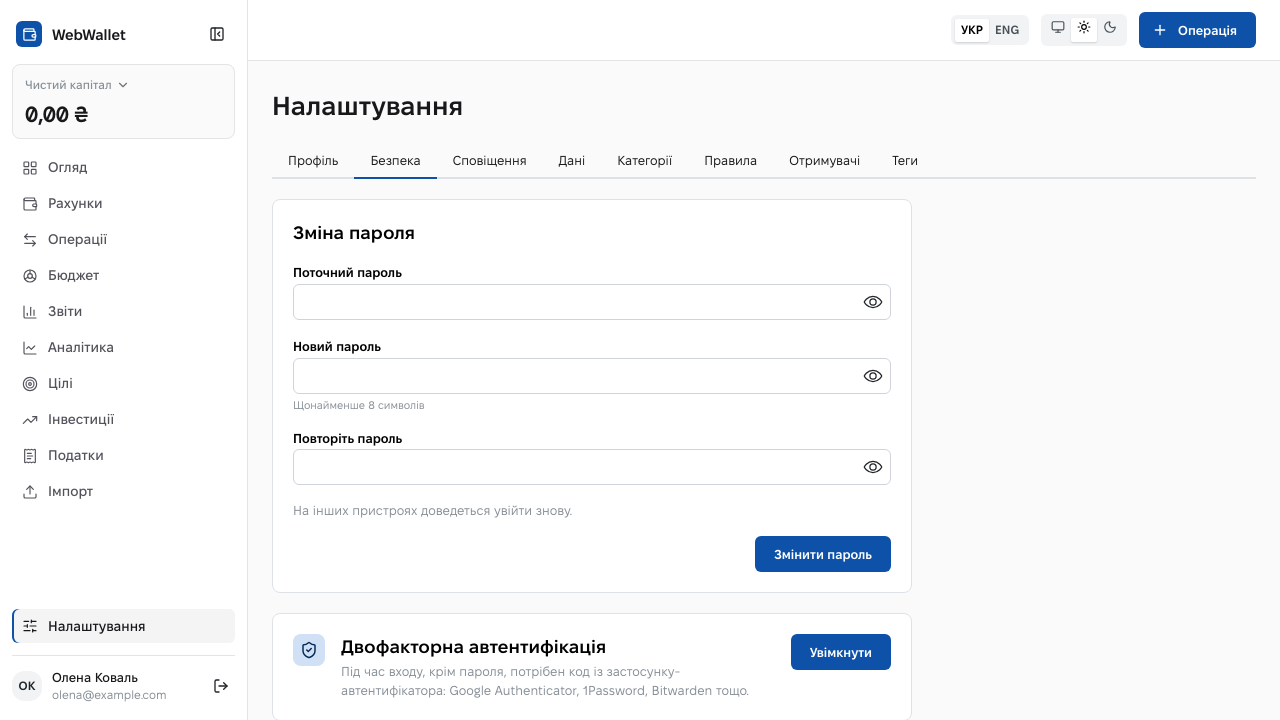
Test: shows too many attempts above the buttons
The image size is (1280, 720).
Click the button "Увімкнути" at (841, 652), box [791, 634, 891, 670]
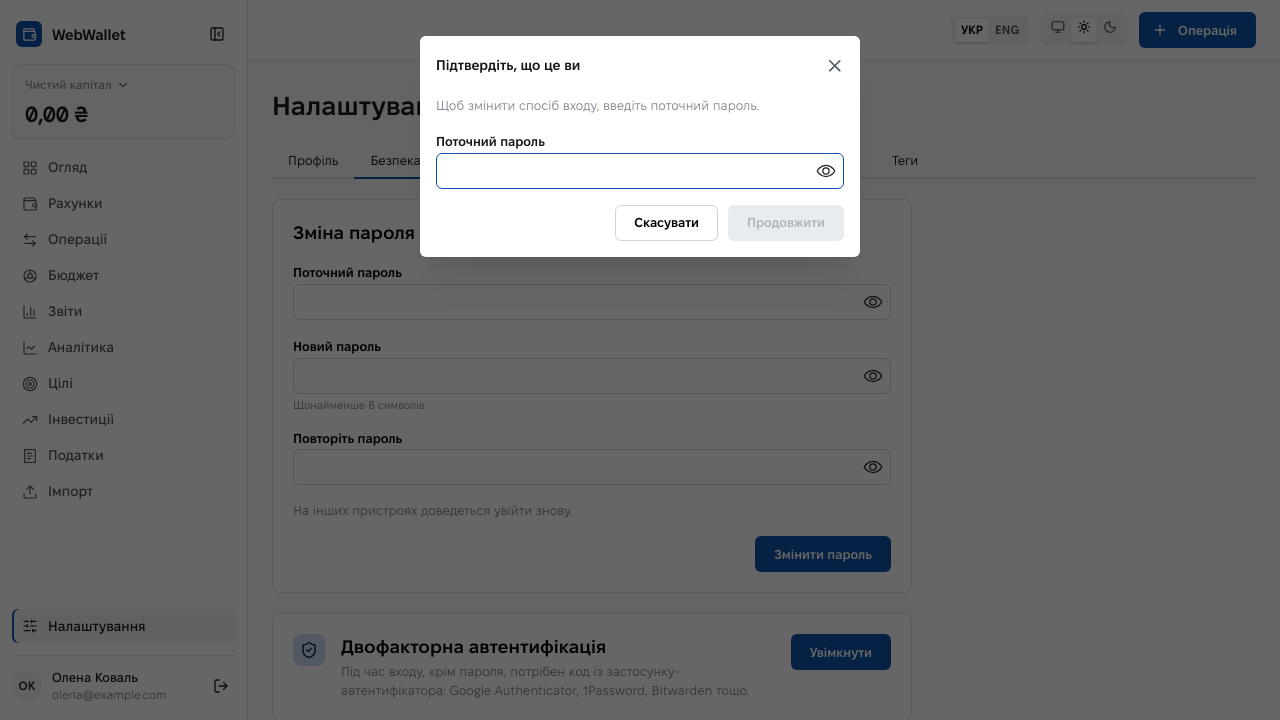
Type "secret-password" into the password field labelled "Поточний пароль" at (640, 170), box [437, 154, 843, 188]
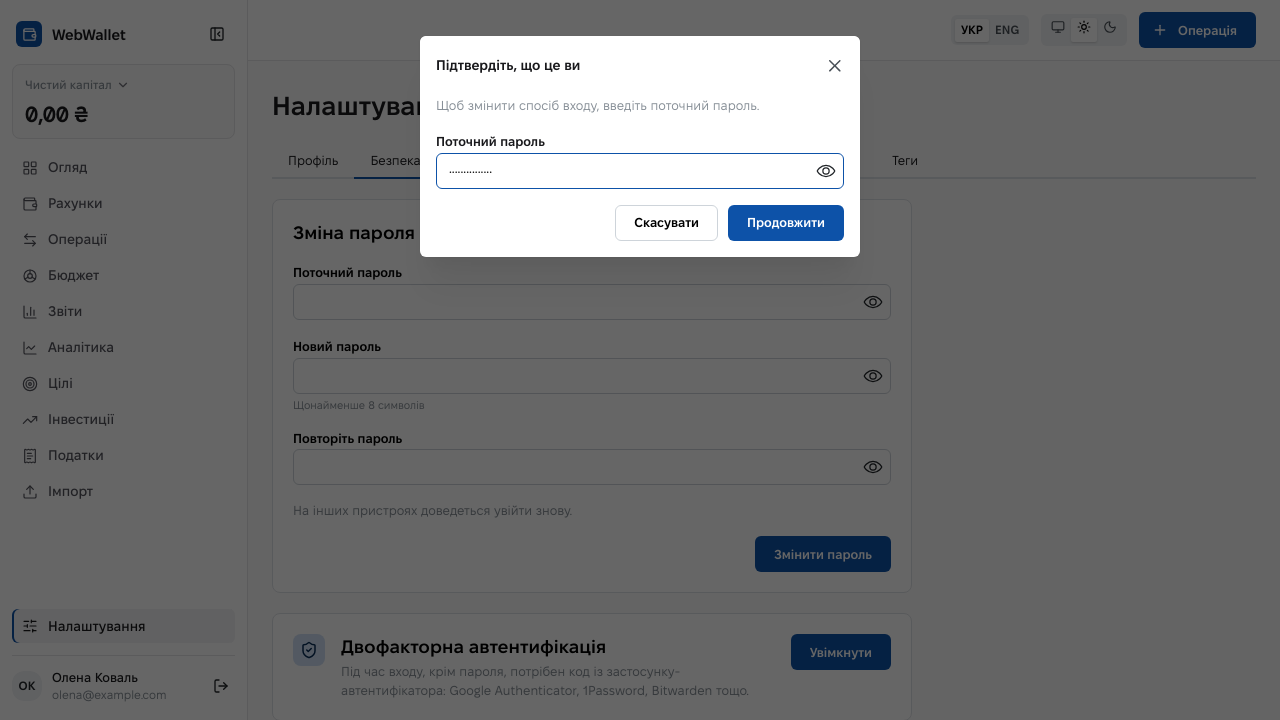
Click the button "Продовжити" at (786, 222), box [728, 204, 844, 240]
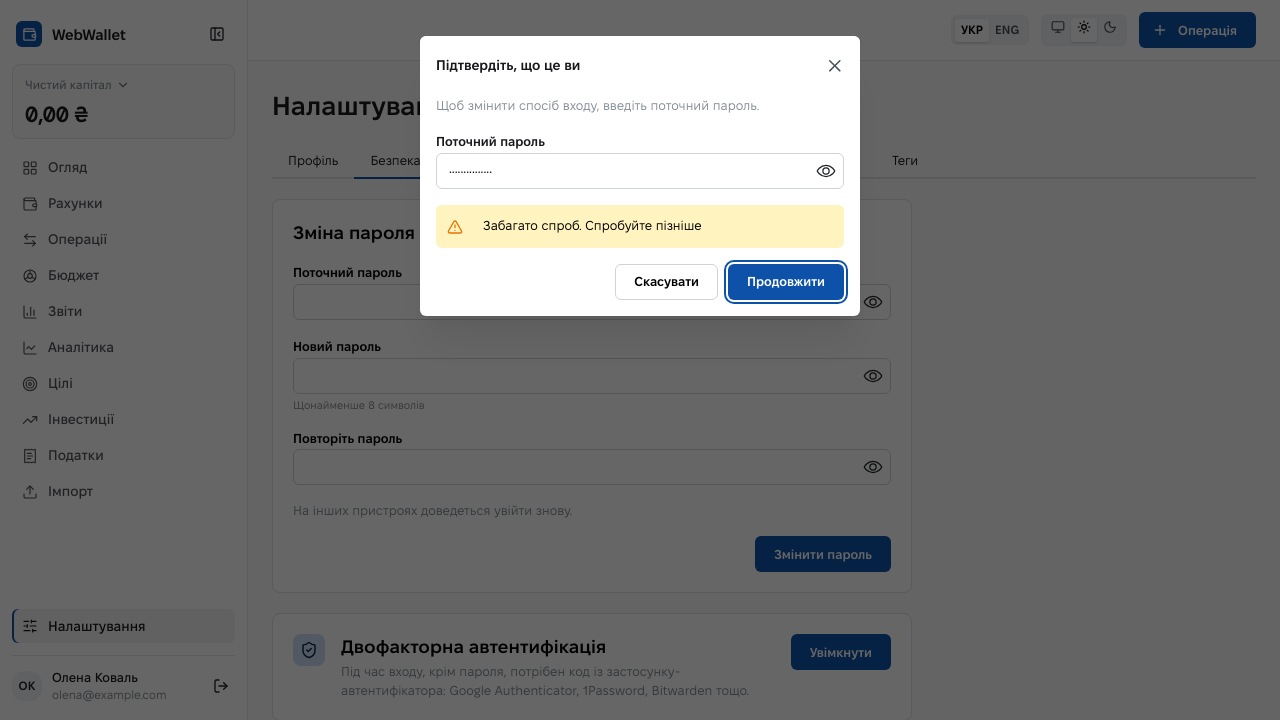
Now the message reads "Забагато спроб. Спробуйте пізніше", box [483, 218, 702, 232]
